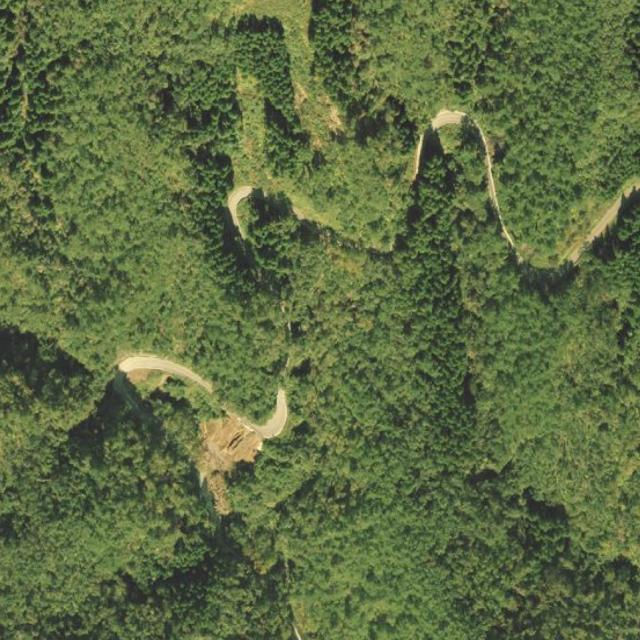landslide: (197, 416, 263, 516), (432, 109, 467, 129)
